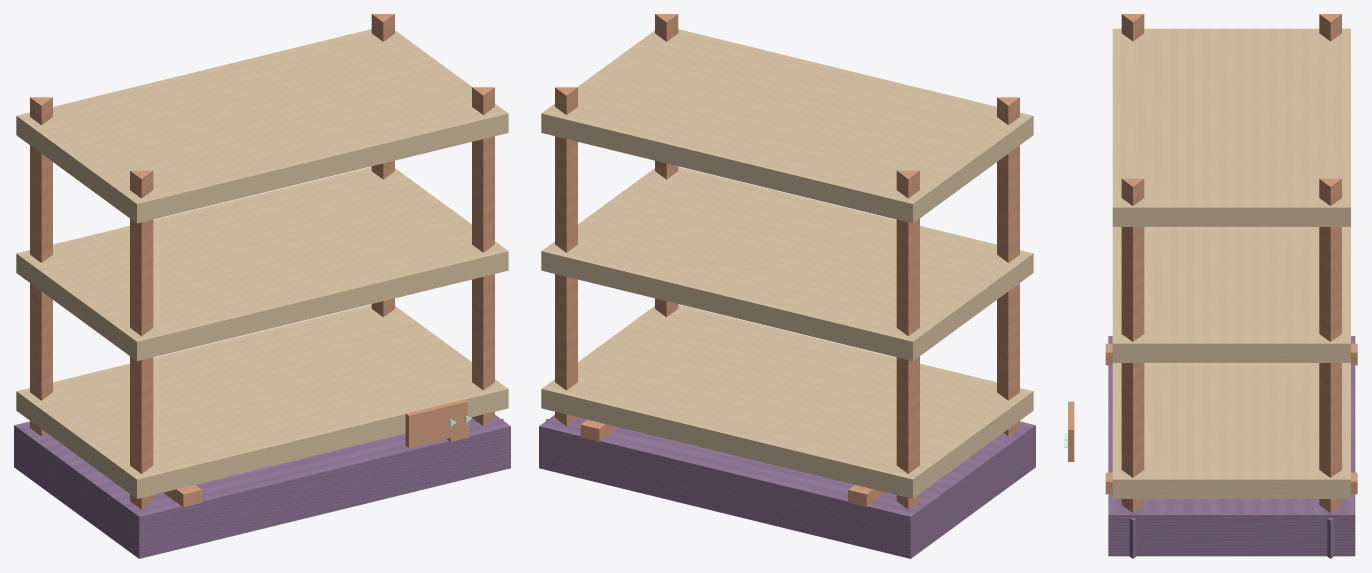
File: atlas100-s085-a06.lod1.glb
3 views of the same model, side by side, from view 1: azimuth 30°, elevation 25°; view 2: azimuth 150°, elevation 25°; view 3: azimuth 270°, elevation 25° (orthographic).
Parts seen in each view (by area): view 1: atlas100-s085-a06:part-013, atlas100-s085-a06:part-012, atlas100-s085-a06:part-011, atlas100-s085-a06:part-000, atlas100-s085-a06:part-005, atlas100-s085-a06:part-009, atlas100-s085-a06:part-003, atlas100-s085-a06:part-014, atlas100-s085-a06:part-007; view 2: atlas100-s085-a06:part-013, atlas100-s085-a06:part-011, atlas100-s085-a06:part-012, atlas100-s085-a06:part-000, atlas100-s085-a06:part-003, atlas100-s085-a06:part-007, atlas100-s085-a06:part-005, atlas100-s085-a06:part-009; view 3: atlas100-s085-a06:part-013, atlas100-s085-a06:part-011, atlas100-s085-a06:part-012, atlas100-s085-a06:part-000, atlas100-s085-a06:part-009, atlas100-s085-a06:part-007, atlas100-s085-a06:part-005, atlas100-s085-a06:part-003, atlas100-s085-a06:part-014.
Boxes of the visible parts, x1=… form: atlas100-s085-a06:part-013: x1=16, y1=29, x2=508, y2=223; atlas100-s085-a06:part-012: x1=16, y1=167, x2=508, y2=361; atlas100-s085-a06:part-011: x1=16, y1=304, x2=508, y2=498; atlas100-s085-a06:part-000: x1=14, y1=415, x2=510, y2=558; atlas100-s085-a06:part-005: x1=130, y1=170, x2=153, y2=509; atlas100-s085-a06:part-009: x1=472, y1=87, x2=494, y2=425; atlas100-s085-a06:part-003: x1=30, y1=97, x2=52, y2=436; atlas100-s085-a06:part-014: x1=405, y1=399, x2=467, y2=447; atlas100-s085-a06:part-007: x1=371, y1=14, x2=394, y2=317; atlas100-s085-a06:part-013: x1=541, y1=29, x2=1033, y2=223; atlas100-s085-a06:part-011: x1=541, y1=304, x2=1033, y2=498; atlas100-s085-a06:part-012: x1=541, y1=167, x2=1033, y2=361; atlas100-s085-a06:part-000: x1=539, y1=415, x2=1035, y2=558; atlas100-s085-a06:part-003: x1=896, y1=170, x2=919, y2=509; atlas100-s085-a06:part-007: x1=555, y1=87, x2=577, y2=425; atlas100-s085-a06:part-005: x1=997, y1=97, x2=1019, y2=436; atlas100-s085-a06:part-009: x1=655, y1=14, x2=678, y2=317; atlas100-s085-a06:part-013: x1=1112, y1=28, x2=1350, y2=226; atlas100-s085-a06:part-011: x1=1112, y1=363, x2=1350, y2=498; atlas100-s085-a06:part-012: x1=1112, y1=227, x2=1350, y2=362; atlas100-s085-a06:part-000: x1=1108, y1=336, x2=1355, y2=556; atlas100-s085-a06:part-009: x1=1121, y1=178, x2=1144, y2=512; atlas100-s085-a06:part-007: x1=1319, y1=178, x2=1341, y2=513; atlas100-s085-a06:part-005: x1=1121, y1=14, x2=1144, y2=41; atlas100-s085-a06:part-003: x1=1319, y1=14, x2=1341, y2=41; atlas100-s085-a06:part-014: x1=1068, y1=401, x2=1074, y2=461.
Bounding box in the file's own units: 2.43 × 2.3 × 1.66.
Materials: 4 (4 with a texture image).
